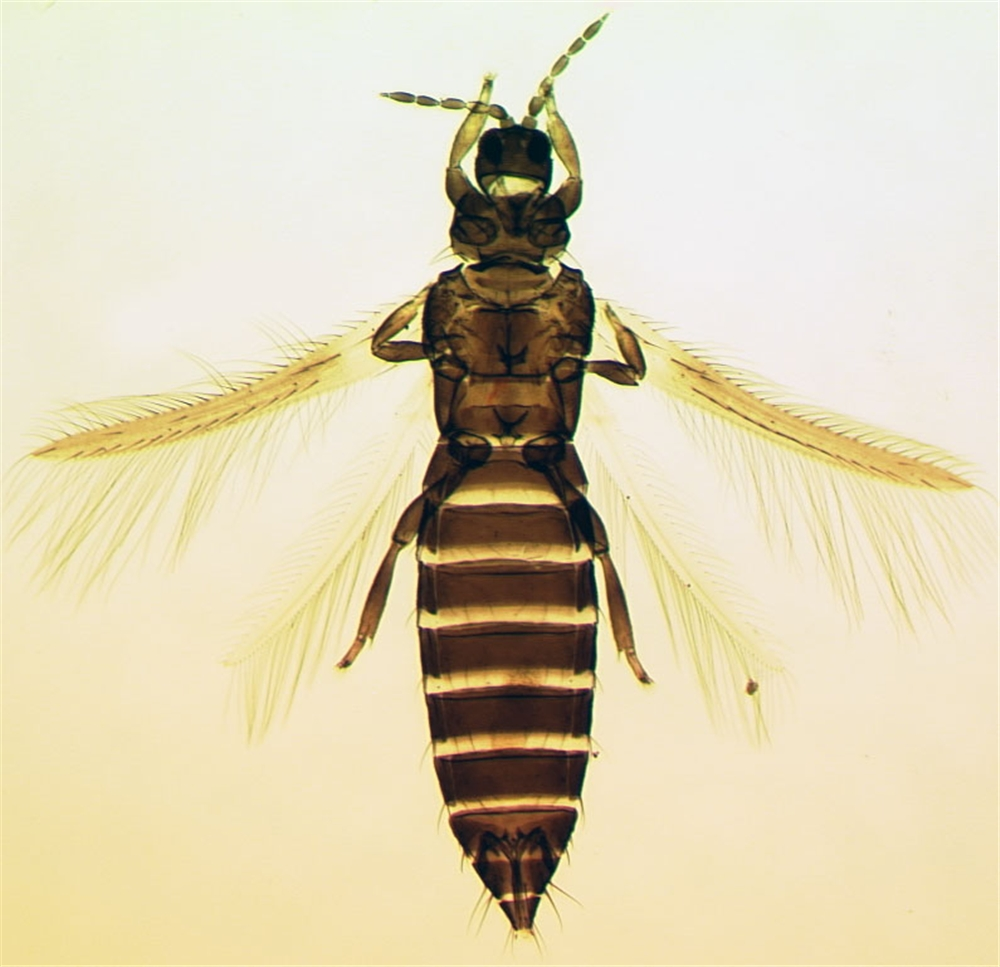Thripidae: (17, 12, 1000, 945)
